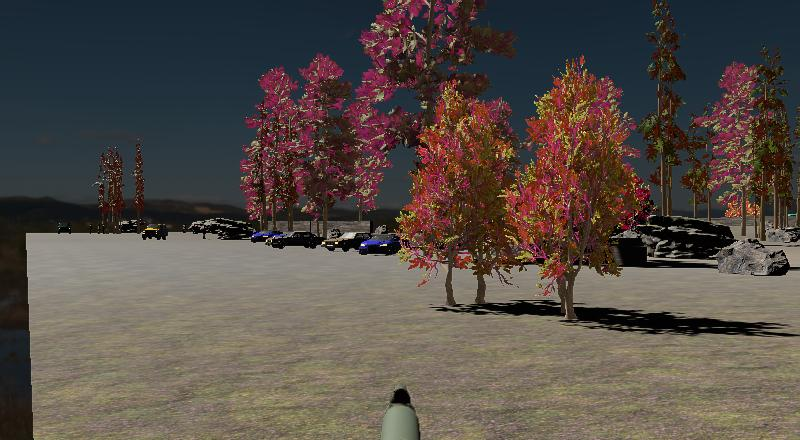car: (324, 231, 373, 252), (359, 234, 402, 256), (270, 231, 321, 249), (332, 231, 373, 252), (250, 227, 289, 244), (141, 222, 169, 242)
